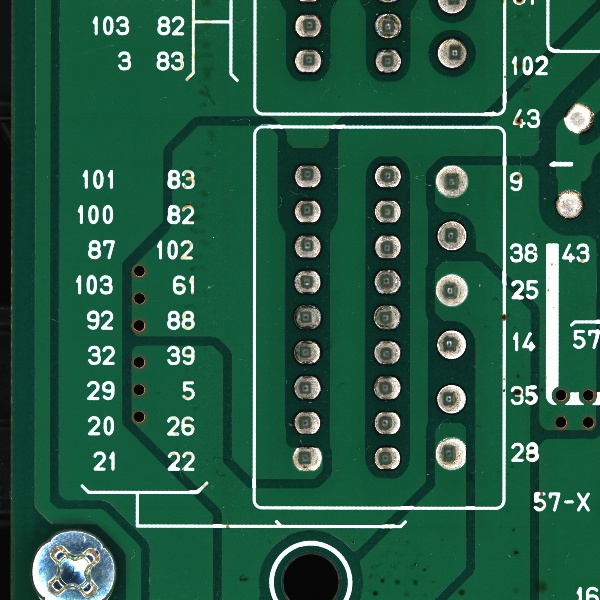Circle: (430, 268, 475, 310), (430, 161, 472, 201), (432, 378, 471, 420), (433, 215, 472, 256), (430, 435, 472, 472), (433, 326, 471, 361), (434, 34, 469, 72), (368, 45, 405, 78), (288, 12, 327, 42), (369, 443, 406, 474), (368, 372, 406, 402), (369, 336, 404, 368), (290, 444, 327, 474), (369, 196, 406, 226), (292, 300, 324, 334), (291, 45, 326, 76), (290, 265, 325, 295), (291, 372, 326, 402), (369, 408, 405, 437), (371, 264, 402, 297), (371, 11, 405, 41), (290, 408, 325, 437), (371, 232, 406, 261), (369, 302, 404, 331), (291, 231, 324, 261), (290, 197, 324, 226), (372, 162, 404, 192), (291, 161, 323, 190), (292, 338, 324, 367)
